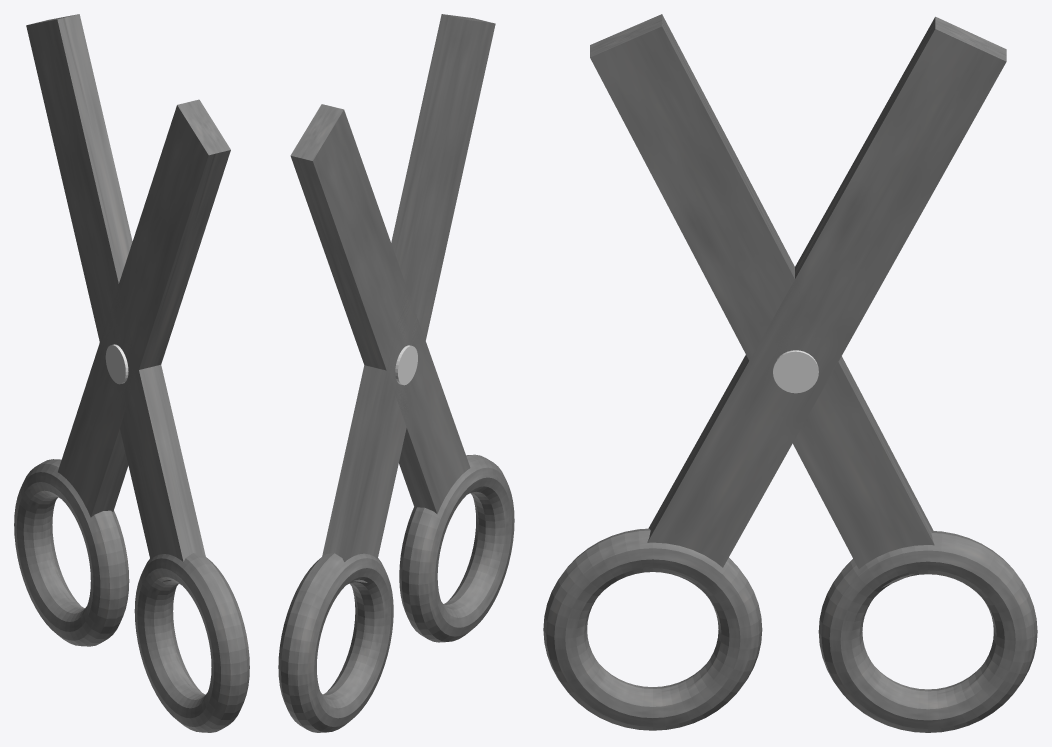
The model's file is Scissors.fbx.
3 renders of one model, left to right at view 1: azimuth 30°, elevation 25°; view 2: azimuth 150°, elevation 25°; view 3: azimuth 270°, elevation 25°, orthographic. The views are drawn at different scales.
Visible parts, largest first — view 1: Cube, Cube.001, Torus, Torus.001, Cylinder; view 2: Cube.001, Cube, Torus.001, Torus, Cylinder; view 3: Cube, Cube.001, Torus, Torus.001, Cylinder.
Boxes of the visible parts, left/top/right/bottom form: Cube: left=26, top=14, right=205, bottom=582; Cube.001: left=58, top=99, right=230, bottom=517; Torus: left=134, top=553, right=249, bottom=732; Torus.001: left=14, top=459, right=129, bottom=646; Cylinder: left=105, top=344, right=128, bottom=384; Cube.001: left=322, top=14, right=495, bottom=582; Cube: left=290, top=104, right=470, bottom=513; Torus.001: left=278, top=553, right=393, bottom=732; Torus: left=399, top=454, right=514, bottom=642; Cylinder: left=395, top=345, right=417, bottom=385; Cube: left=647, top=16, right=1006, bottom=583; Cube.001: left=590, top=14, right=934, bottom=587; Torus: left=543, top=528, right=762, bottom=730; Torus.001: left=818, top=531, right=1037, bottom=732; Cylinder: left=773, top=350, right=818, bottom=393.
Size of the model in its own units: 1.15 by 20.64 by 13.01.
Materials: 5 (4 with a texture image).
